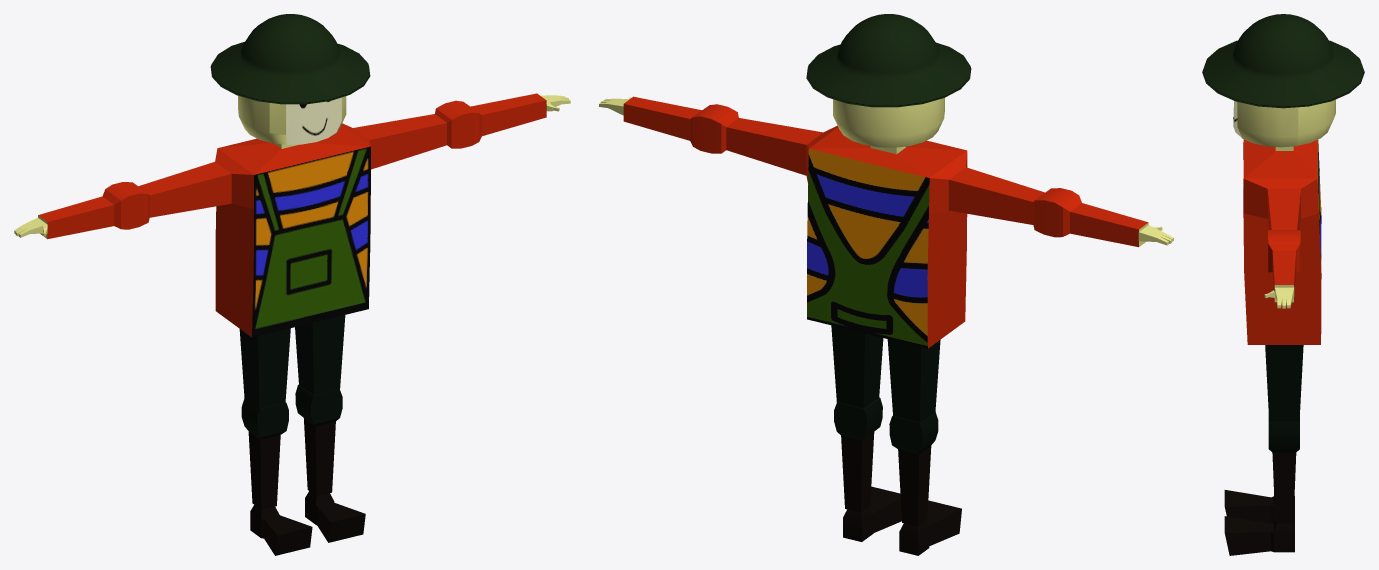
The model's file is Farmer.obj.
The picture shows the model from 3 angles, left to right: view 1: azimuth 30°, elevation 25°; view 2: azimuth 150°, elevation 25°; view 3: azimuth 270°, elevation 25°; orthographic projection. The views are drawn at different scales.
Visible parts, largest first — view 1: pasted__pSphere2; view 2: pasted__pSphere2; view 3: pasted__pSphere2.
Boxes of the visible parts, x1=… form: pasted__pSphere2: x1=14, y1=14, x2=570, y2=555; pasted__pSphere2: x1=599, y1=14, x2=1173, y2=555; pasted__pSphere2: x1=1202, y1=14, x2=1364, y2=555.
Size of the model in its own units: 8.02 by 7.06 by 2.02.
Materials: 10 (3 with a texture image).
